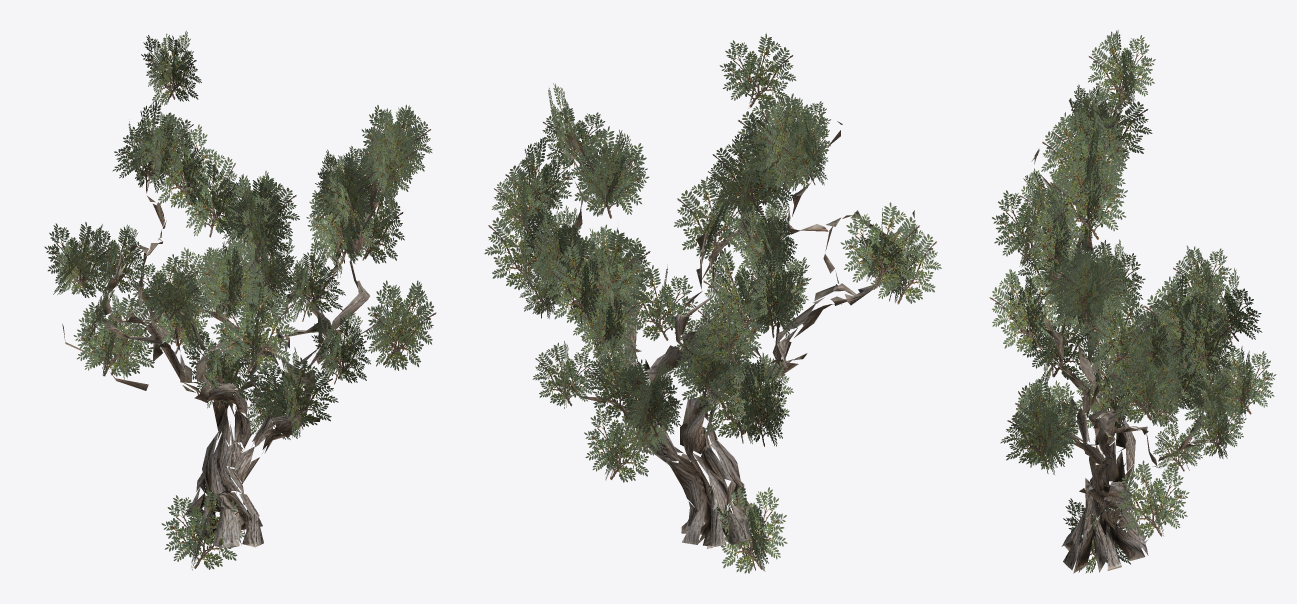
The model's file is ironwood.glb.
3 renders of one model, left to right at view 1: azimuth 30°, elevation 25°; view 2: azimuth 150°, elevation 25°; view 3: azimuth 270°, elevation 25°, orthographic. The views are drawn at different scales.
Parts seen in each view (by area): view 1: cards, LO.001; view 2: cards, LO.001; view 3: cards, LO.001.
Boxes of the visible parts, x1,y1,x2,y2 form: cards: (44,30,436,570); LO.001: (62,87,387,548); cards: (484,33,941,573); LO.001: (554,120,914,548); cards: (989,30,1276,573); LO.001: (1031,94,1222,573).
Size of the model in its own units: 0.7979 by 1.02 by 0.5308.
Materials: 2 (2 with a texture image).
